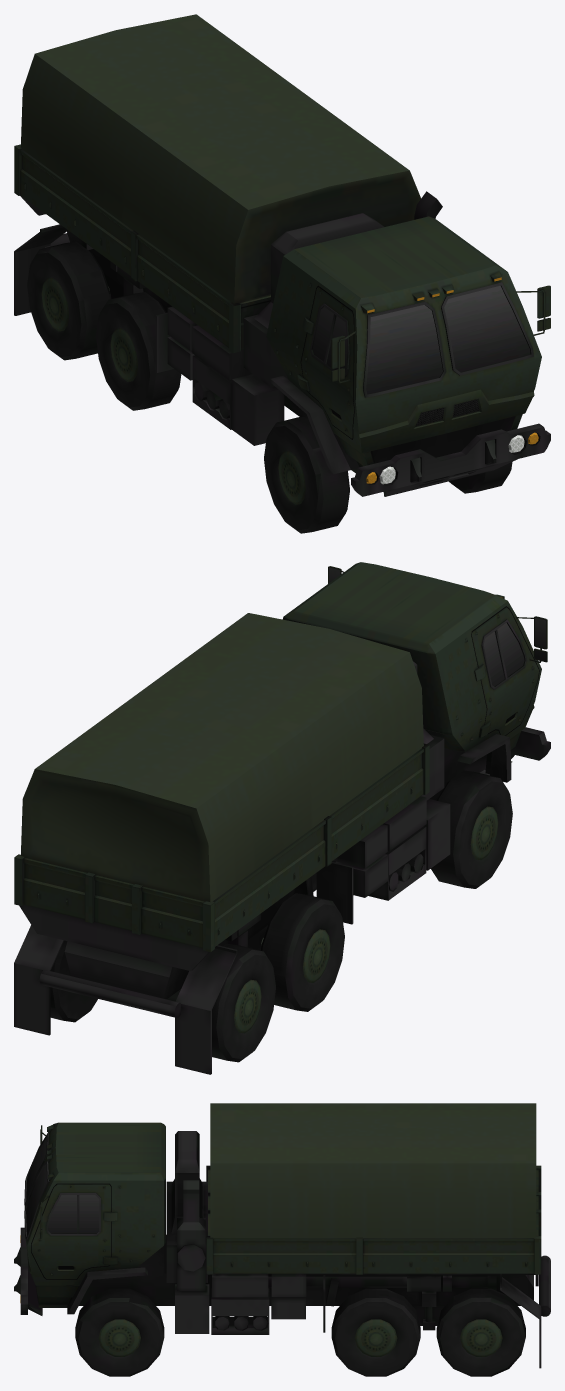
Rendered from fmtv.obj.
3 views of the same model, one above another, from view 1: azimuth 30°, elevation 25°; view 2: azimuth 150°, elevation 25°; view 3: azimuth 270°, elevation 25° (orthographic). The views are drawn at different scales.
Visible parts, largest first — view 1: Plane.001; view 2: Plane.001; view 3: Plane.001.
Part boxes in pixels (x1=…): Plane.001: x1=14, y1=14, x2=550, y2=533; Plane.001: x1=14, y1=562, x2=550, y2=1074; Plane.001: x1=14, y1=1103, x2=550, y2=1376.
Bounding box in the file's own units: 2.12 × 2.56 × 5.9.
1 material, 1 textured.
